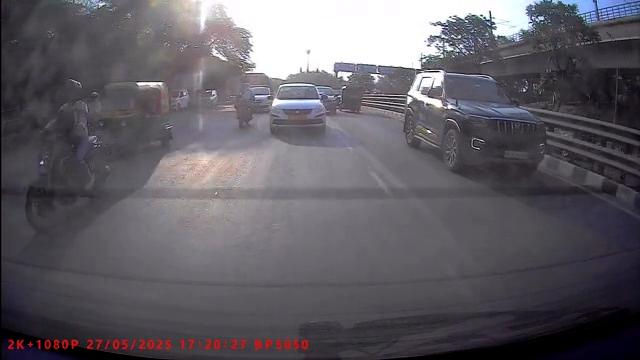motorcycle_with_helmet: (22, 75, 111, 235)
